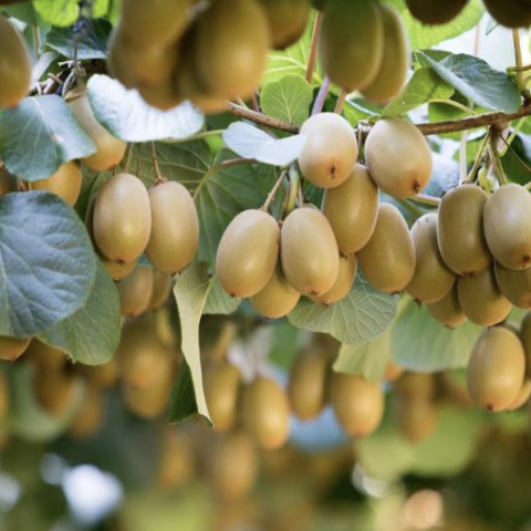kiwi: (431, 174, 507, 294), (214, 186, 287, 308), (134, 172, 209, 277), (364, 113, 439, 207), (268, 198, 340, 294), (464, 318, 530, 417), (92, 167, 151, 273)
